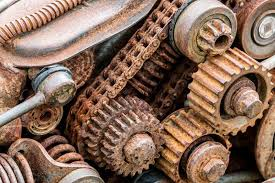rust: (67, 86, 166, 179), (185, 47, 271, 133), (160, 108, 233, 181), (125, 4, 180, 97), (4, 132, 92, 181)
